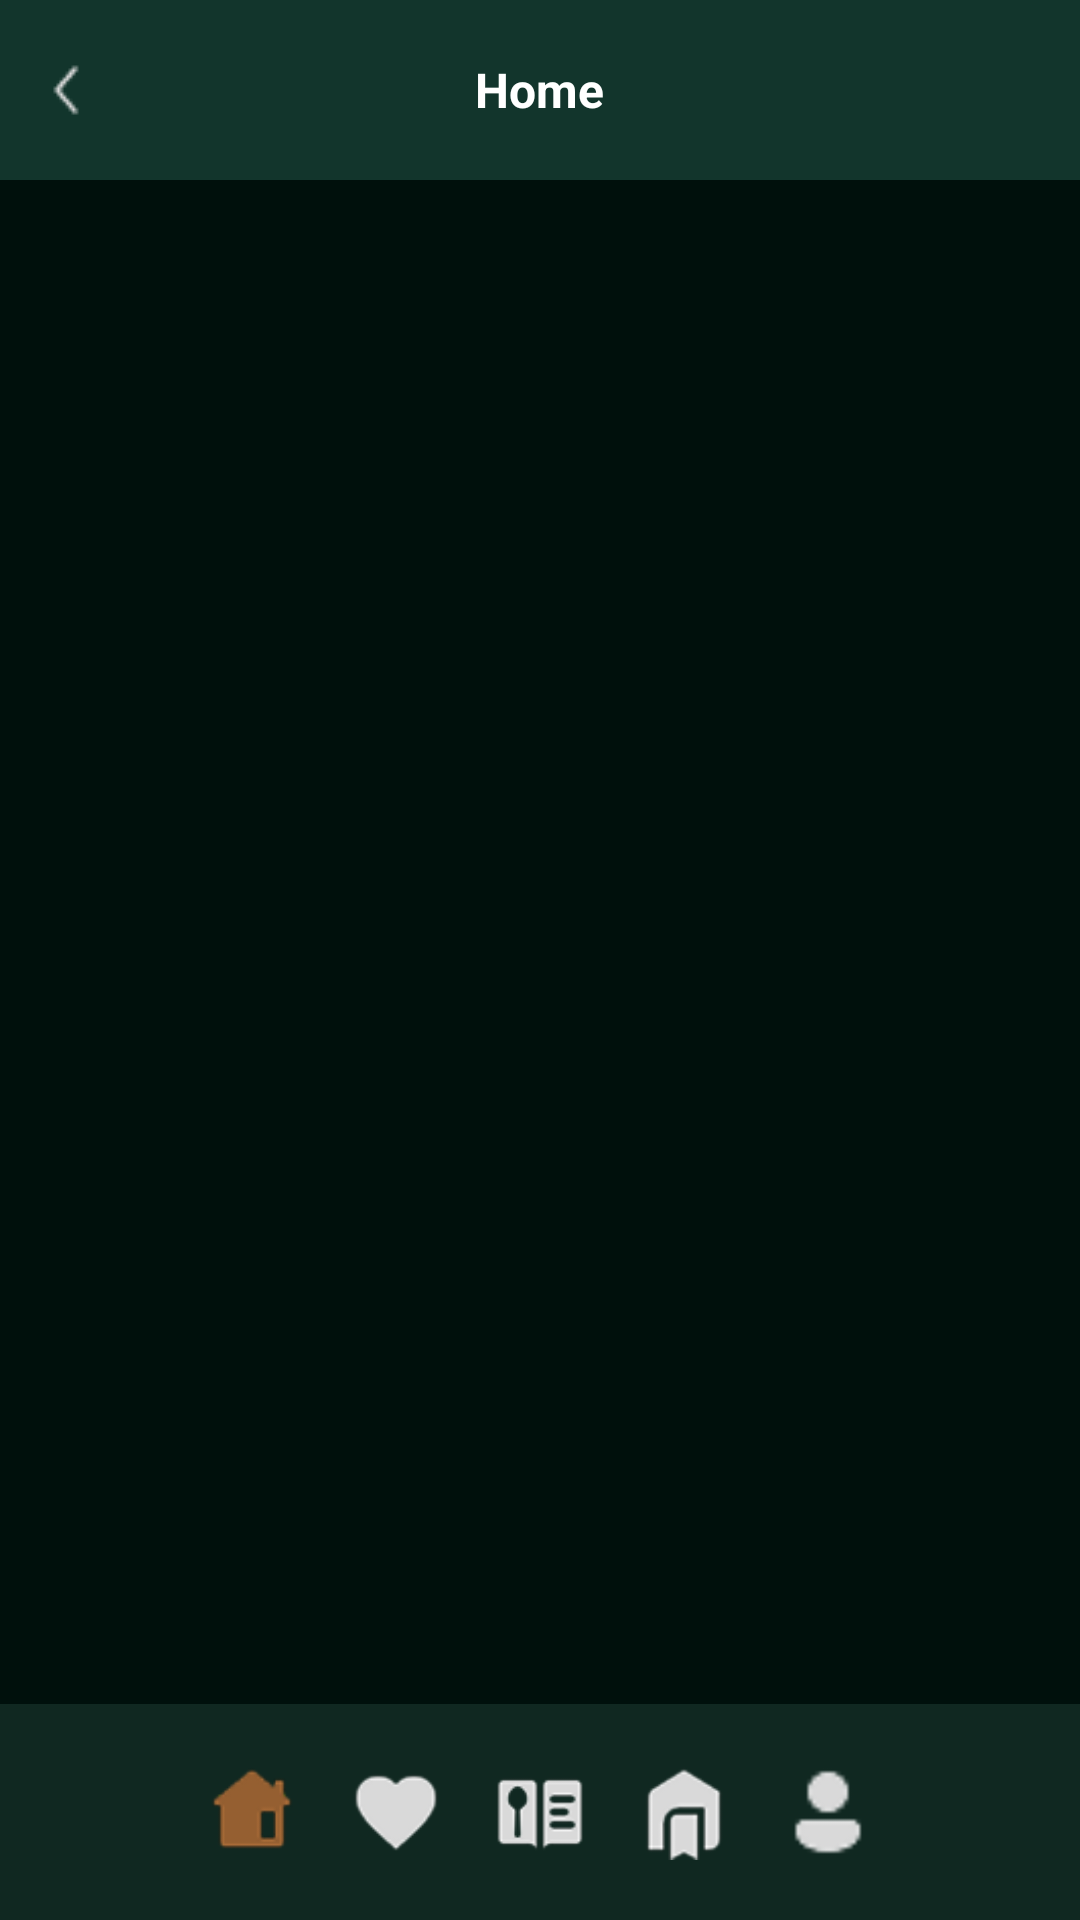

Point at icon controls on the screen. Image size 1080x1920, points as [x,y].
back: [66,90]
booking: [684,1814]
favorite: [396,1812]
homec: [252,1809]
menu: [540,1813]
user: [828,1812]
